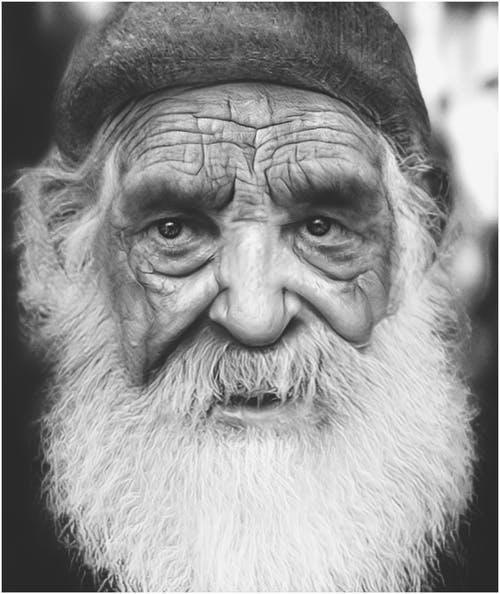Wrinkles: (261, 138, 348, 202), (259, 126, 373, 153), (169, 116, 204, 175), (109, 106, 153, 151), (193, 99, 257, 128), (105, 99, 141, 141), (135, 142, 200, 160), (139, 111, 200, 127), (128, 126, 157, 158), (219, 166, 238, 211), (296, 147, 315, 189), (274, 158, 295, 188), (134, 98, 173, 114), (140, 158, 192, 169), (246, 141, 258, 185), (149, 129, 214, 136), (208, 140, 245, 150), (259, 120, 293, 130), (280, 177, 295, 196), (245, 152, 253, 178), (286, 112, 305, 117), (253, 131, 256, 143)
